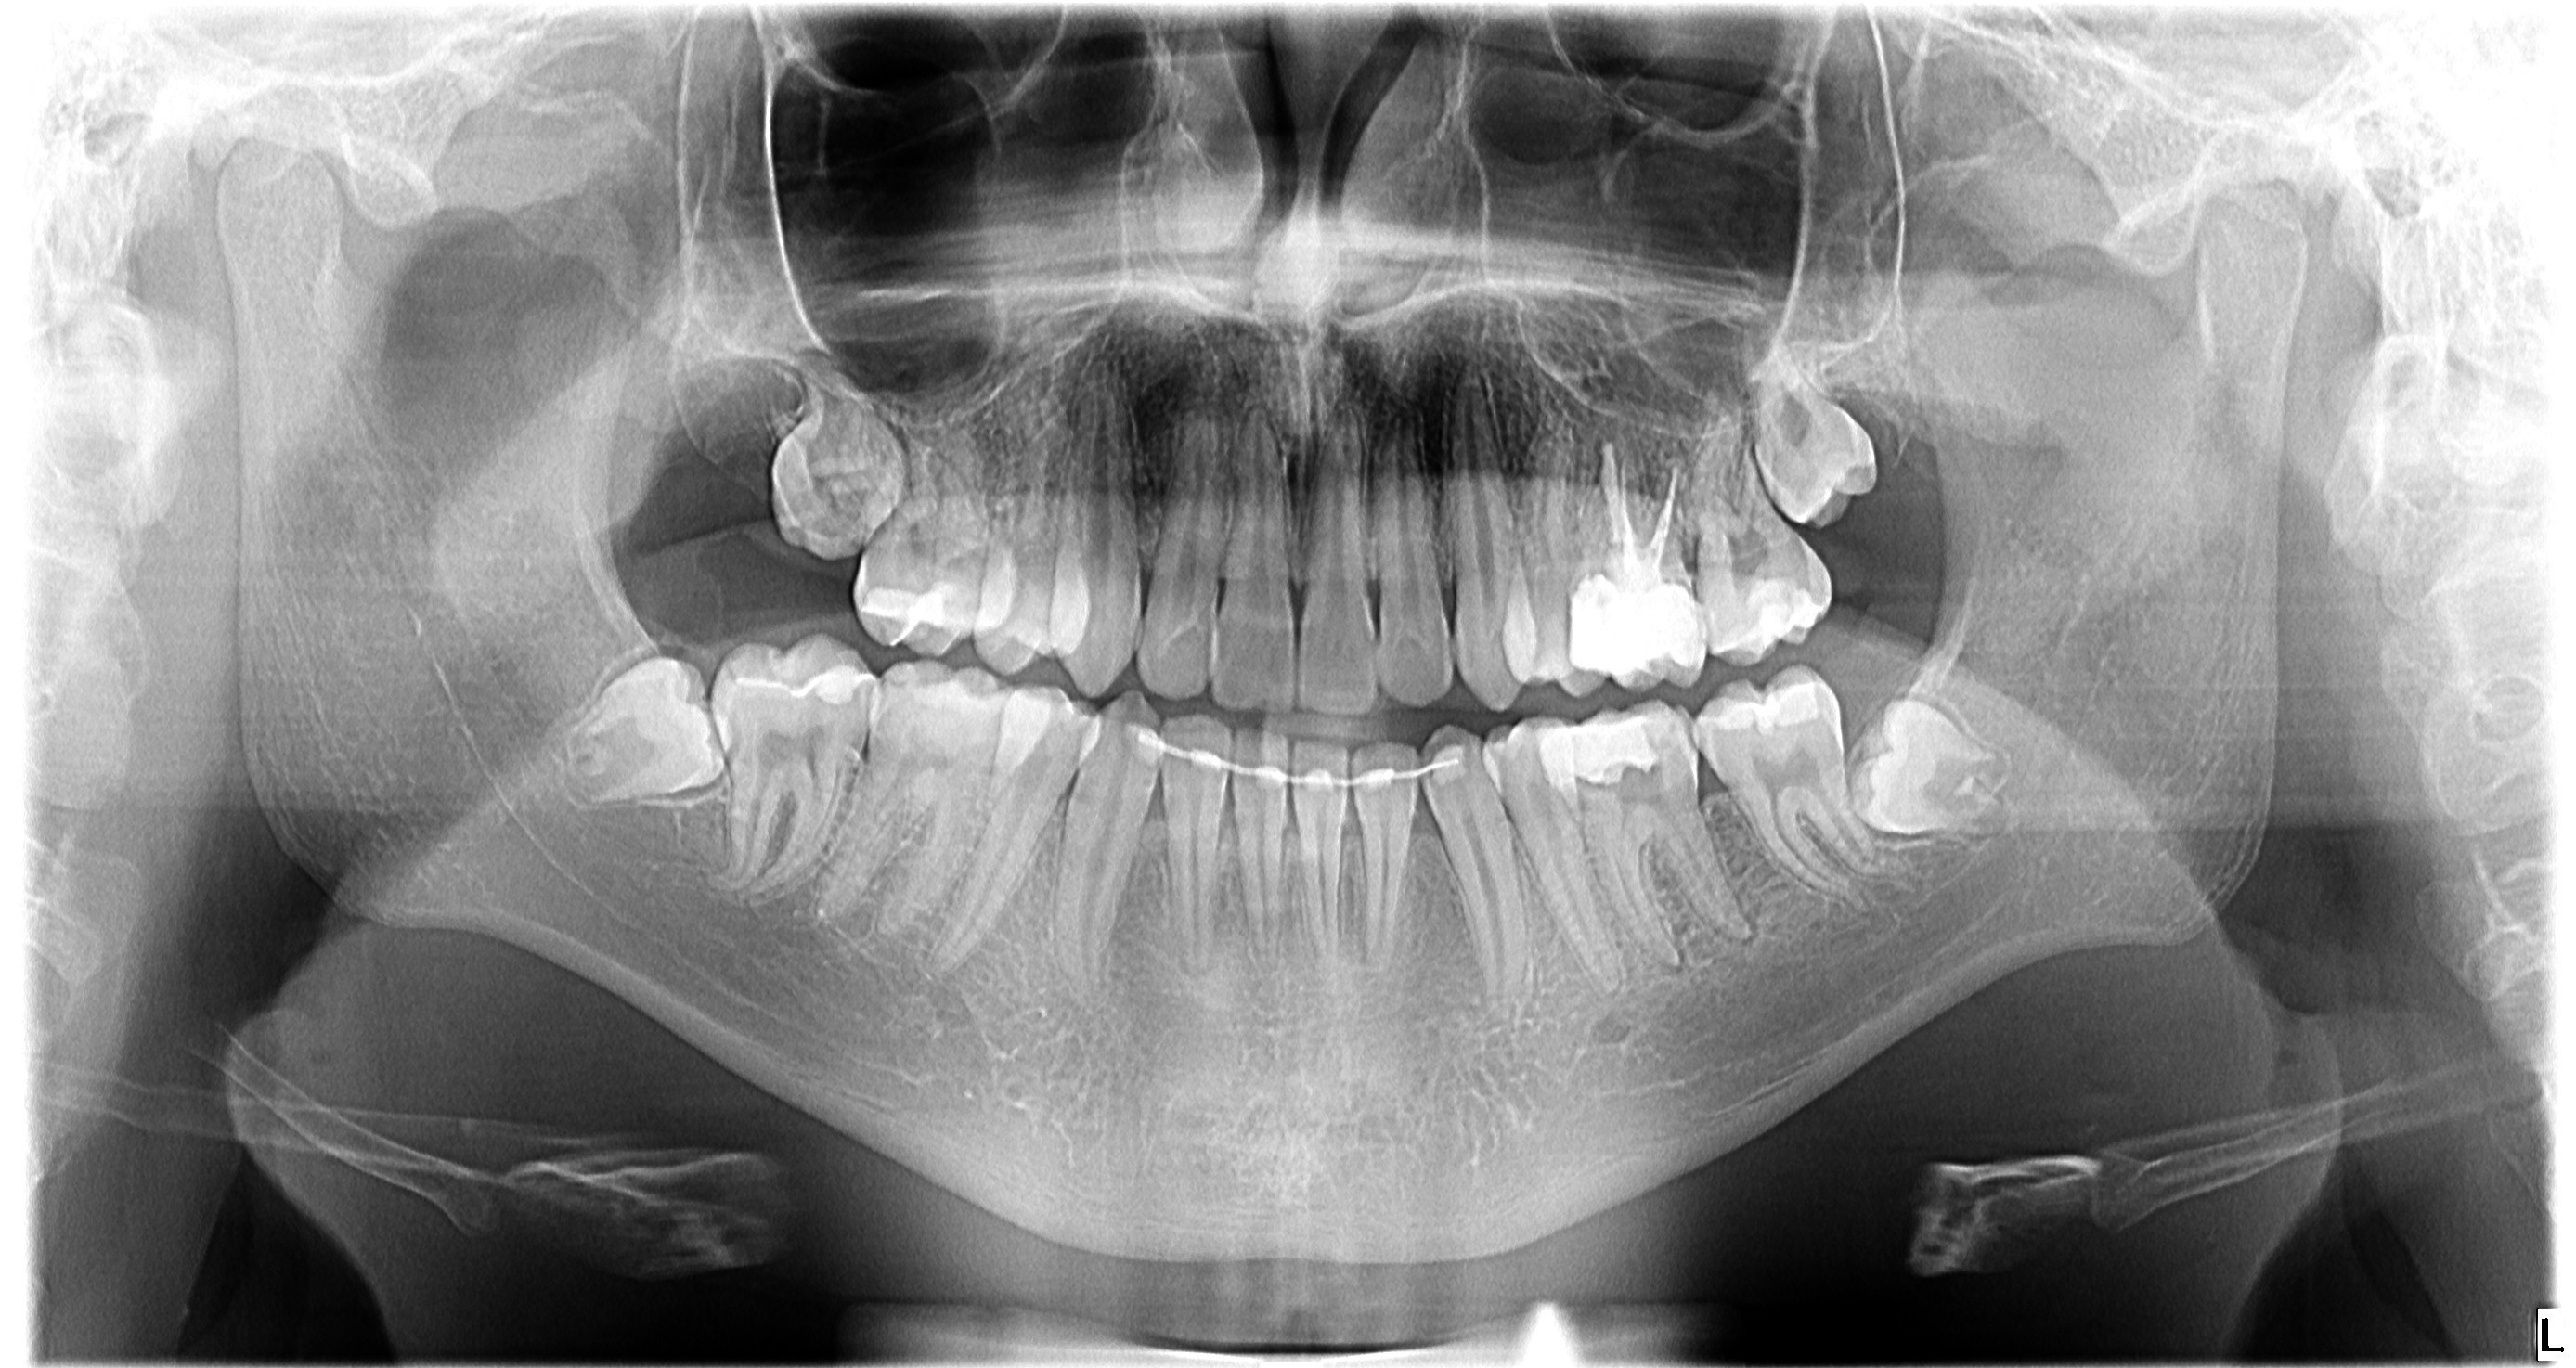END: (1593, 422, 1699, 576)
IMT: (543, 639, 738, 816), (1837, 687, 2017, 862), (763, 376, 910, 567), (1741, 351, 1884, 540)
OBT: (1571, 579, 1709, 688), (1535, 716, 1676, 799), (859, 588, 959, 652)
ORD: (1116, 719, 1491, 801)
